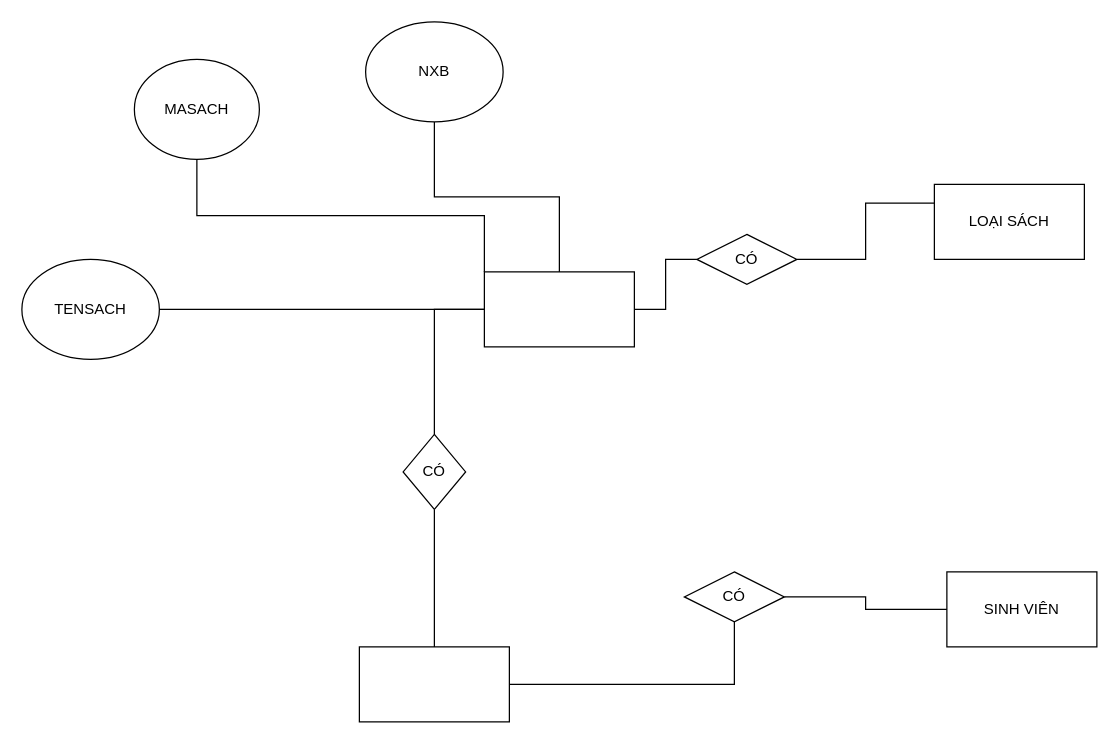
This 1119x744 diagram has some shape labels left out. The shapes that lost their labels are listed below. From the top down, each one's centre as x and y in pixels, then its label:
At pixel 558 309: "SÁCH".
At pixel 433 684: "PHIẾU SÁCH".
